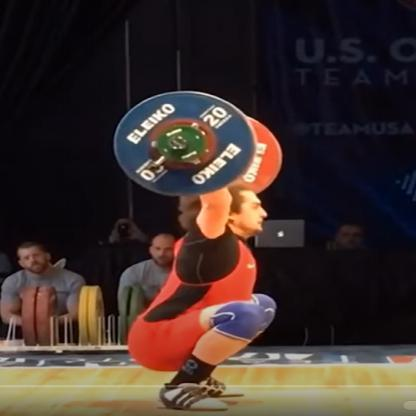Barbell: (167, 135, 192, 154)
